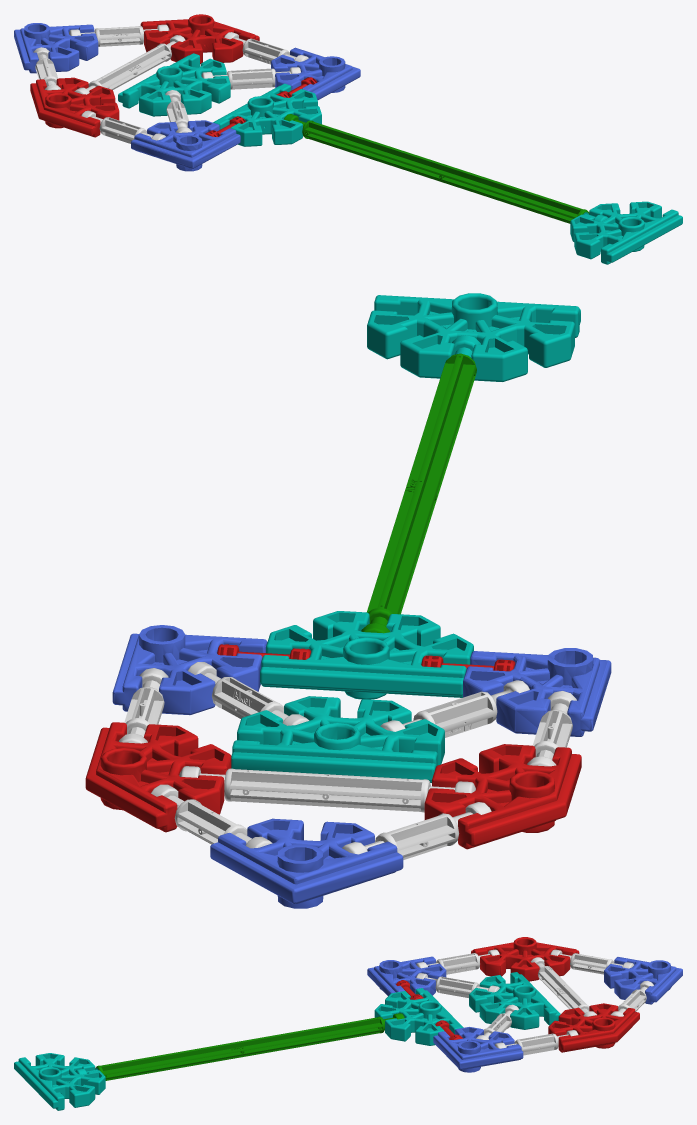
The picture shows the model from 3 angles, top to bottom: view 1: azimuth 30°, elevation 25°; view 2: azimuth 150°, elevation 25°; view 3: azimuth 270°, elevation 25°; orthographic projection. The views are drawn at different scales.
Visible parts, largest first — view 1: Untitled.142, Untitled.4661, Untitled.007, Untitled.3409, Untitled.004, Untitled.000, Untitled.011, Untitled.012, Untitled.009, Untitled.006, Untitled.008, Untitled.4196 (+4 smaller); view 2: Untitled.4661, Untitled.3409, Untitled.007, Untitled.004, Untitled.012, Untitled.011, Untitled.142, Untitled.000, Untitled.009, Untitled.006, Untitled.005, Untitled.002 (+4 smaller); view 3: Untitled.142, Untitled.4661, Untitled.007, Untitled.011, Untitled.3409, Untitled.004, Untitled.009, Untitled.012, Untitled.000, Untitled.006, Untitled.010, Untitled.002 (+4 smaller).
Boxes of the visible parts, box(x1,y1,x2,y2) form: Untitled.142: box(284, 114, 589, 223); Untitled.4661: box(570, 201, 682, 264); Untitled.007: box(118, 53, 230, 116); Untitled.3409: box(213, 83, 321, 146); Untitled.004: box(30, 77, 119, 137); Untitled.000: box(131, 120, 240, 171); Untitled.011: box(140, 14, 259, 63); Untitled.012: box(14, 23, 98, 73); Untitled.009: box(271, 47, 360, 100); Untitled.006: box(74, 35, 185, 94); Untitled.008: box(201, 67, 300, 89); Untitled.4196: box(69, 24, 169, 46); Untitled.4661: box(367, 293, 580, 381); Untitled.3409: box(260, 611, 473, 699); Untitled.007: box(231, 696, 444, 782); Untitled.004: box(424, 744, 581, 849); Untitled.012: box(210, 818, 403, 908); Untitled.011: box(85, 722, 231, 832); Untitled.142: box(361, 353, 476, 633); Untitled.000: box(463, 648, 611, 736); Untitled.009: box(112, 625, 267, 715); Untitled.006: box(179, 766, 475, 812); Untitled.005: box(342, 802, 491, 859); Untitled.002: box(380, 680, 529, 737); Untitled.142: box(95, 1013, 404, 1080); Untitled.4661: box(14, 1053, 105, 1110); Untitled.007: box(469, 972, 560, 1029); Untitled.011: box(548, 1003, 639, 1052); Untitled.3409: box(374, 988, 463, 1045); Untitled.004: box(471, 937, 579, 981); Untitled.009: box(433, 1027, 523, 1072); Untitled.012: box(604, 957, 682, 1004); Untitled.000: box(367, 956, 446, 995); Untitled.006: box(530, 957, 596, 1016); Untitled.010: box(494, 1030, 578, 1055); Untitled.002: box(416, 973, 499, 997).
Bounding box in the file's own units: 2.3 × 0.15 × 4.03.
